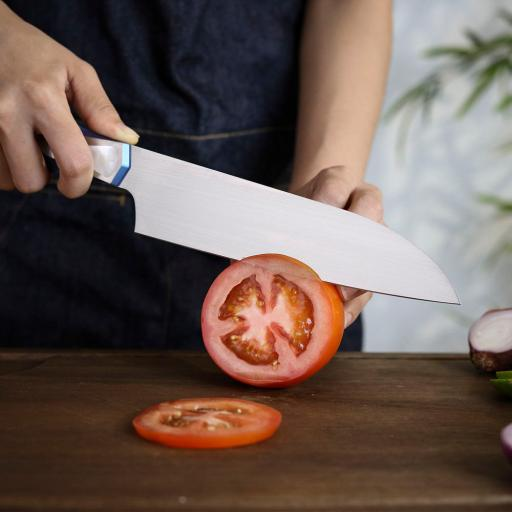knife: (108, 130, 464, 318)
